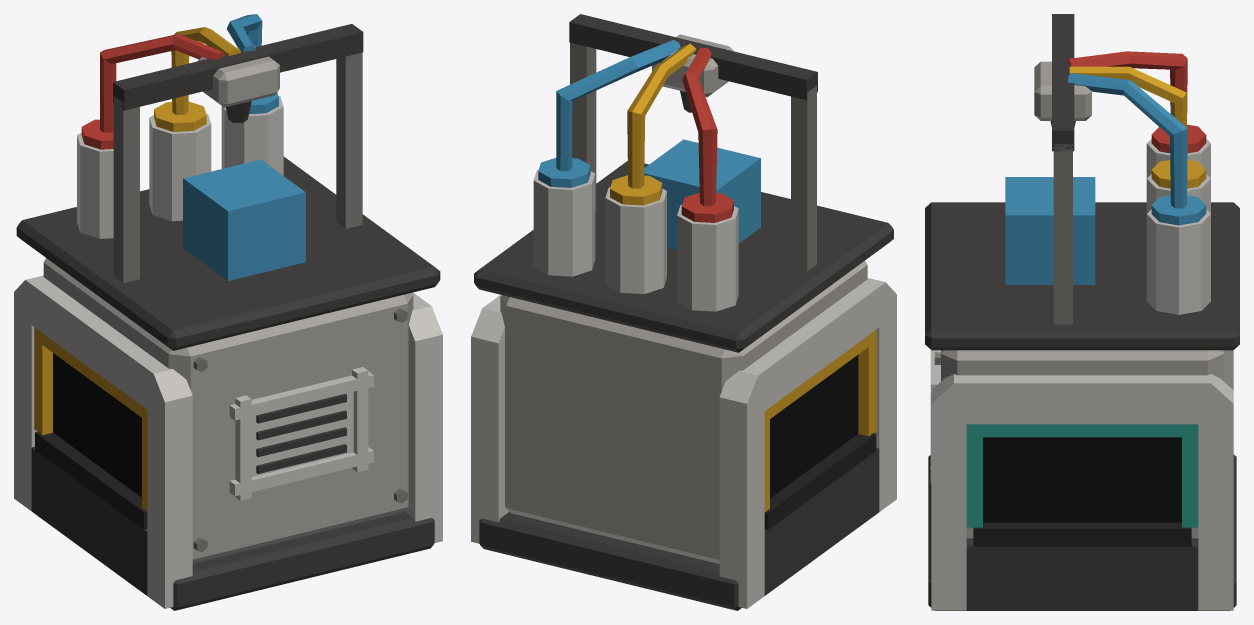
File: painter.fbx
The picture shows the model from 3 angles, left to right: view 1: azimuth 30°, elevation 25°; view 2: azimuth 150°, elevation 25°; view 3: azimuth 270°, elevation 25°; orthographic projection.
Visible parts, largest first — view 1: painter; view 2: painter; view 3: painter.
Boxes of the visible parts, box(x1,y1,x2,y2) form: painter: box(14, 14, 442, 610); painter: box(471, 14, 896, 610); painter: box(925, 14, 1239, 610).
Bounding box in the file's own units: 3 × 4.97 × 2.94.
